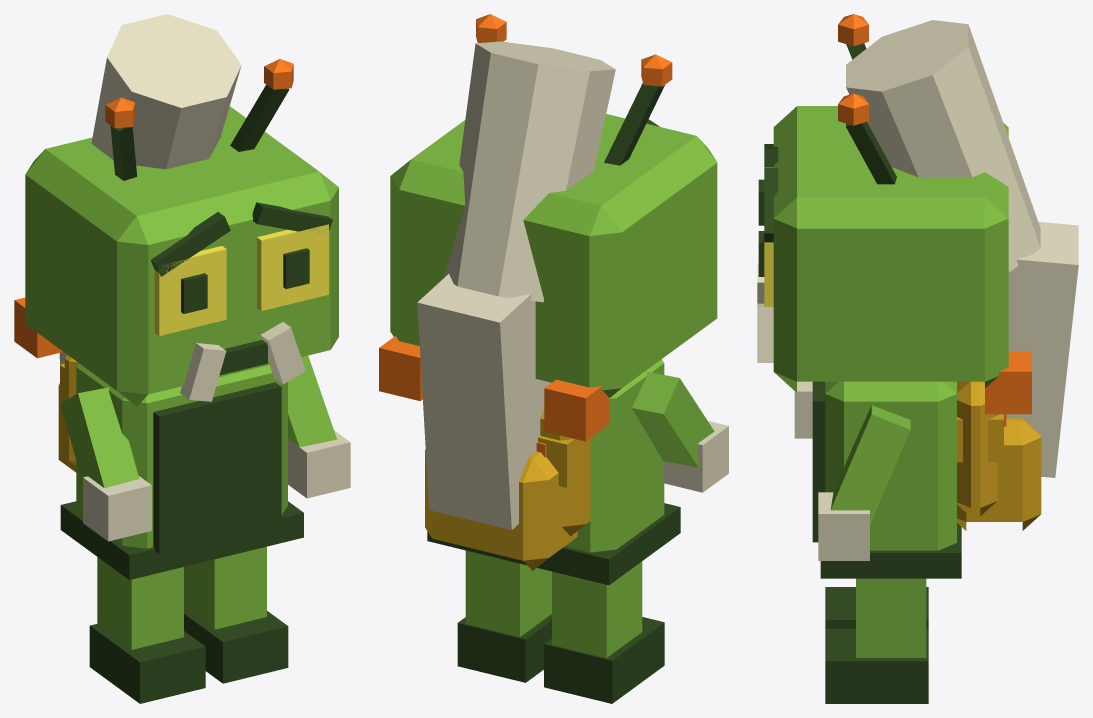
Rendered from mortar_r10.glb.
3 views of the same model, side by side, from view 1: azimuth 30°, elevation 25°; view 2: azimuth 150°, elevation 25°; view 3: azimuth 270°, elevation 25° (orthographic). The views are drawn at different scales.
Parts seen in each view (by area): view 1: mortar_r10_mesh; view 2: mortar_r10_mesh; view 3: mortar_r10_mesh.
Part boxes in pixels (x1,y1,x2,y2): mortar_r10_mesh: (14,14,350,703); mortar_r10_mesh: (379,14,728,703); mortar_r10_mesh: (757,14,1078,703).
Bounding box in the file's own units: 0.734 × 1.7 × 0.785.
Materials: 1 (1 with a texture image).
